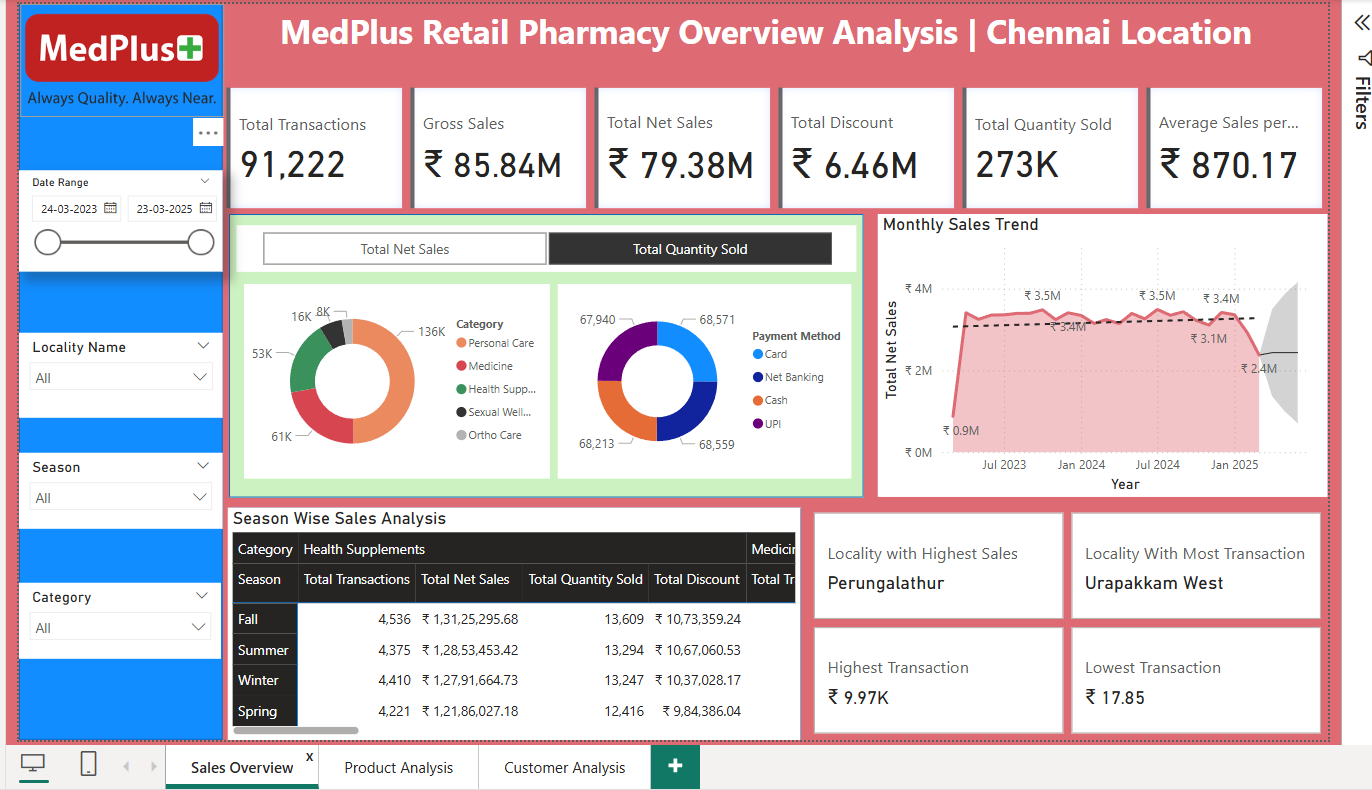

The page's visual inventory and layout, read from the dashboard file:
{"tool":"powerbi","page":{"name":"Sales Overview ","canvas":[1280,720],"ordinal":0},"visuals":[{"type":"shape","box":[205.4,492.8,558.8,227.4],"z":0},{"type":"shape","box":[205.4,205.4,621.2,277.6],"z":1000},{"type":"shape","box":[0,0,199.3,720.2],"z":2000},{"type":"image","box":[1.2,0,199.3,110.1],"z":3000},{"type":"textbox","box":[199.3,0,1062.6,55],"z":4000},{"type":"cardVisual","fields":{"Data":["formulas.Total Transactions","formulas.Gross Sales","formulas.Total Net Sales","formulas.Total Discount","formulas.Total Quantity Sold","formulas.Average Sales per Customer"]},"box":[198.1,77,1082.2,128.4],"z":5000},{"type":"slicer","fields":{"Values":["Parameter.Parameter"]},"box":[212.8,216.4,606.5,45.2],"z":6000},{"type":"donutChart","fields":{"Y":["formulas.Total Quantity Sold"],"Category":["Sales Data.Category"]},"box":[220.1,273.9,299.6,190.8],"z":7000},{"type":"donutChart","fields":{"Y":["formulas.Total Quantity Sold"],"Category":["Sales Data.Payment Method"]},"box":[527,273.9,287.4,190.8],"z":8000},{"type":"pivotTable","title":"Season Wise Sales Analysis","fields":{"Rows":["Sales Data.Season"],"Values":["formulas.Total Transactions","formulas.Total Net Sales","formulas.Total Quantity Sold","formulas.Total Discount"],"Columns":["Sales Data.Category"]},"box":[204.2,492.8,560.1,227.4],"z":9000},{"type":"lineChart","title":"Monthly Sales Trend","fields":{"Y":["formulas.Total Net Sales"],"Category":["Sales Data.Date of Sale.Variation.Date Hierarchy.Year","Sales Data.Date of Sale.Variation.Date Hierarchy.Month"]},"box":[840,206,440,277],"z":10000},{"type":"cardVisual","fields":{"Data":["formulas.most sales location","formulas.most transaction location","formulas.Highest Transaction","formulas.Lowest Transaction"]},"box":[772.8,492.8,507.5,227.4],"z":11000},{"type":"slicer","fields":{"Values":["Sales Data.Date of Sale"]},"box":[0,162.6,199.3,99],"z":12000},{"type":"slicer","fields":{"Values":["Sales Data.Locality Name"]},"box":[0,321.6,199.3,83.2],"z":13000},{"type":"slicer","fields":{"Values":["Sales Data.Season"]},"box":[0,439.1,199.1,74.8],"z":14000},{"type":"slicer","fields":{"Values":["Sales Data.Category"]},"box":[0,565.8,197.9,74.8],"z":15000}]}

Visuals, with their boxes on the page's 1280x720 design canvas (x1, y1, x2, y2). These are canvas units, not pixel positions in the 1372x790 screenshot, which may show the page scaled, cropped or inside an application window:
shape: Rect(205, 493, 764, 720)
shape: Rect(205, 205, 827, 483)
shape: Rect(0, 0, 199, 720)
image: Rect(1, 0, 200, 110)
textbox: Rect(199, 0, 1262, 55)
cardVisual - formulas.Total Transactions x formulas.Gross Sales: Rect(198, 77, 1280, 205)
slicer - Parameter.Parameter: Rect(213, 216, 819, 262)
donutChart - formulas.Total Quantity Sold x Sales Data.Category: Rect(220, 274, 520, 465)
donutChart - formulas.Total Quantity Sold x Sales Data.Payment Method: Rect(527, 274, 814, 465)
"Season Wise Sales Analysis" pivotTable: Rect(204, 493, 764, 720)
"Monthly Sales Trend" lineChart: Rect(840, 206, 1280, 483)
cardVisual - formulas.most sales location x formulas.most transaction location: Rect(773, 493, 1280, 720)
slicer - Sales Data.Date of Sale: Rect(0, 163, 199, 262)
slicer - Sales Data.Locality Name: Rect(0, 322, 199, 405)
slicer - Sales Data.Season: Rect(0, 439, 199, 514)
slicer - Sales Data.Category: Rect(0, 566, 198, 641)
